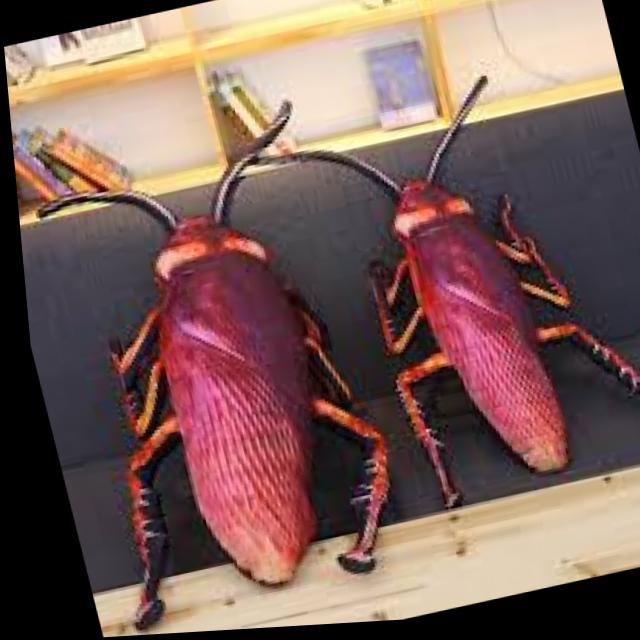Cockroach: (48, 100, 400, 630), (318, 66, 609, 548)
